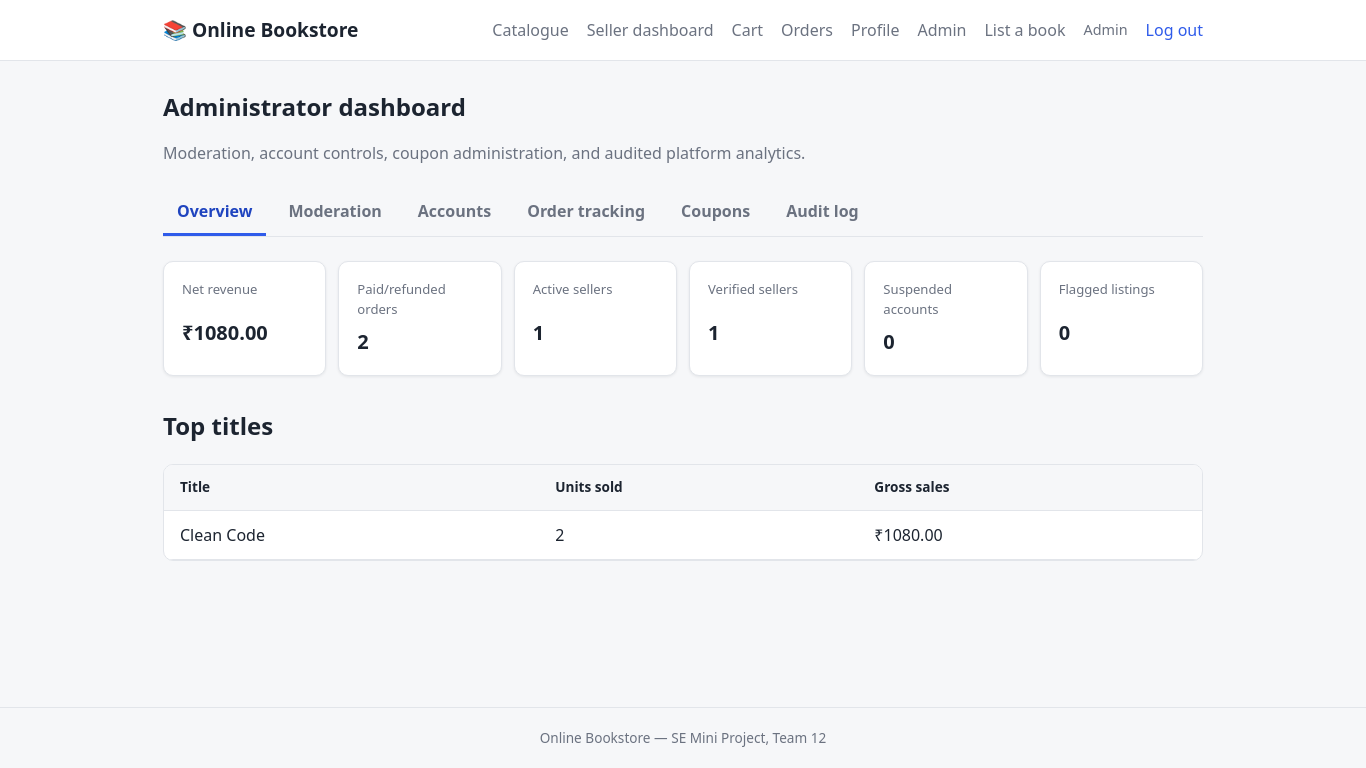
catalogue frontend › lets administrators advance order tracking
This screenshot has width=1366, height=768.
Expected: the heading "Administrator dashboard" is shown, [163,90,466,123]
Click the button "Order tracking" at (586,212), box [513,189,659,236]
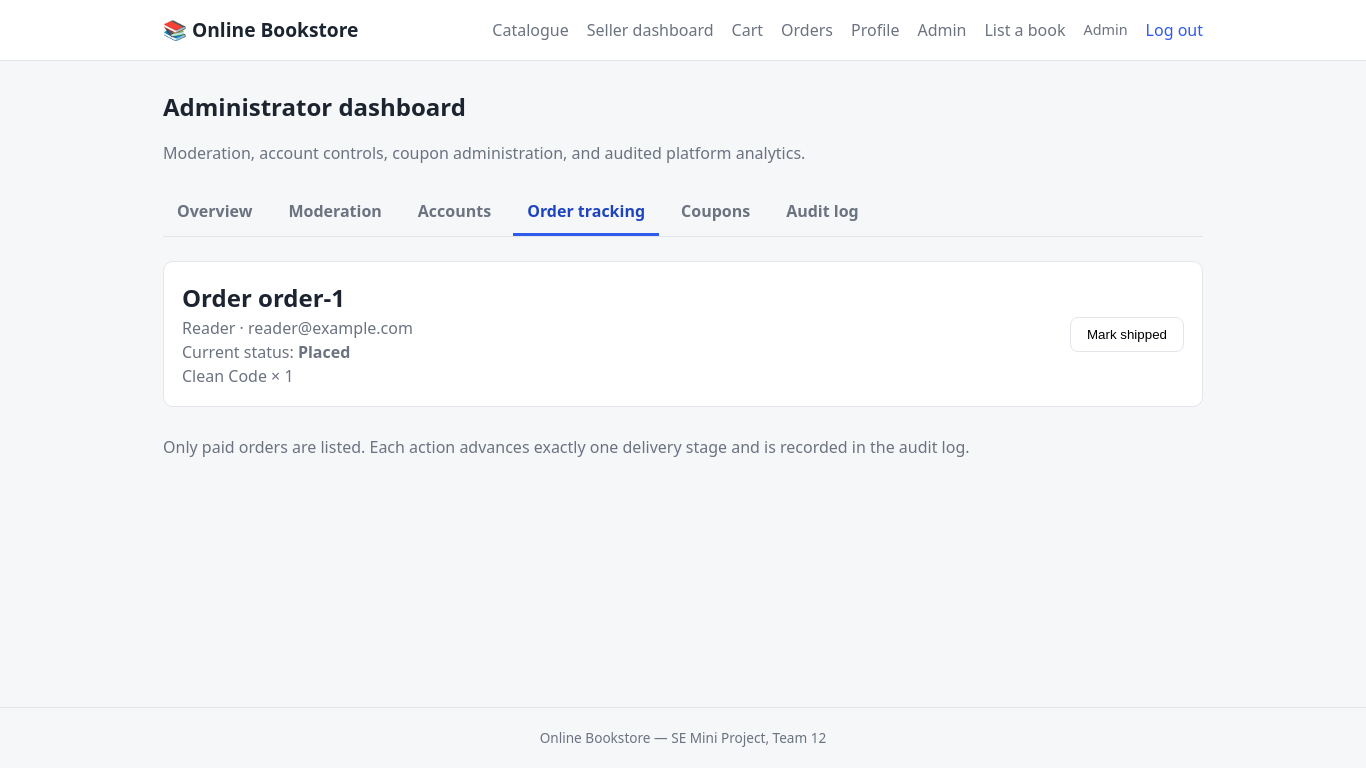
Expected: the heading "Order order-1" is shown, [182,281,345,314]
Click the button "Mark shipped" at (1127,334), box [1070,316,1184,352]
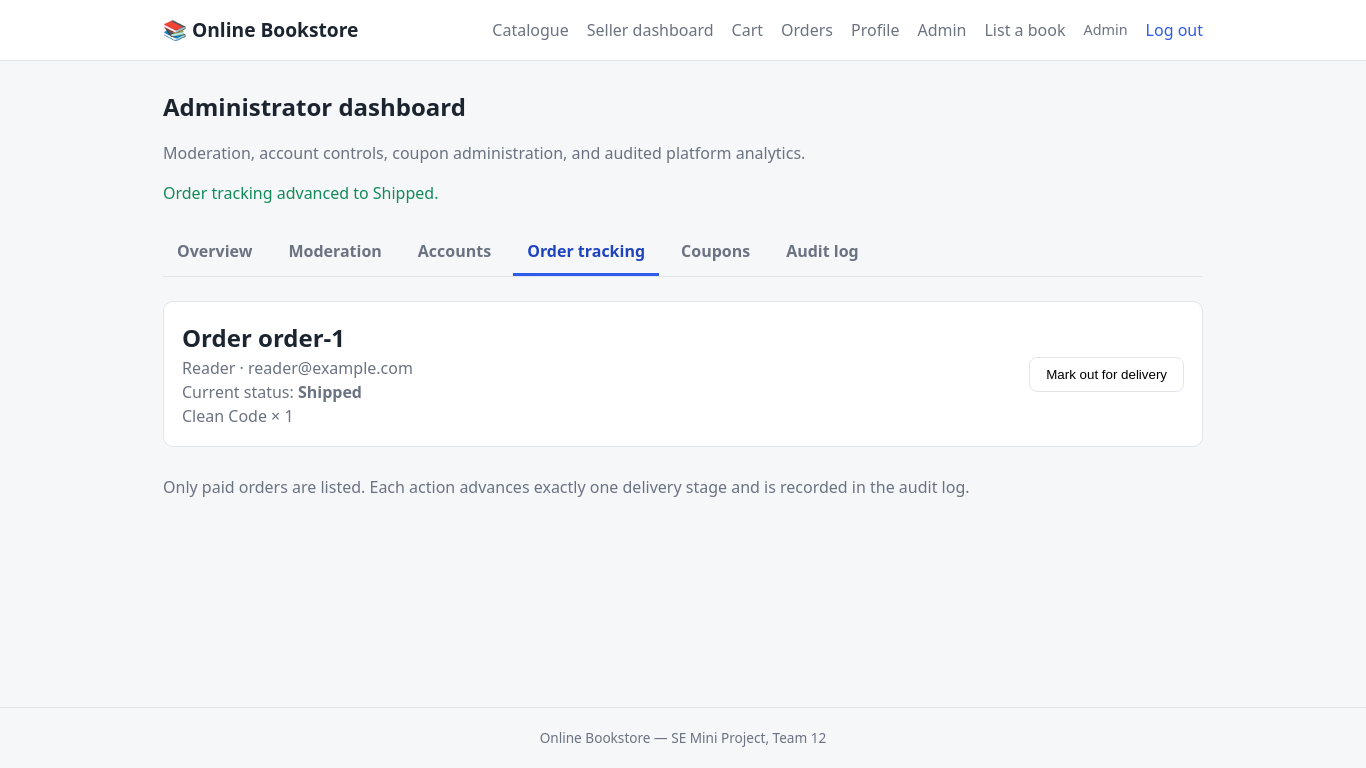
Expected: the message reads "Order tracking advanced to Shipped.", [163,182,438,204]
